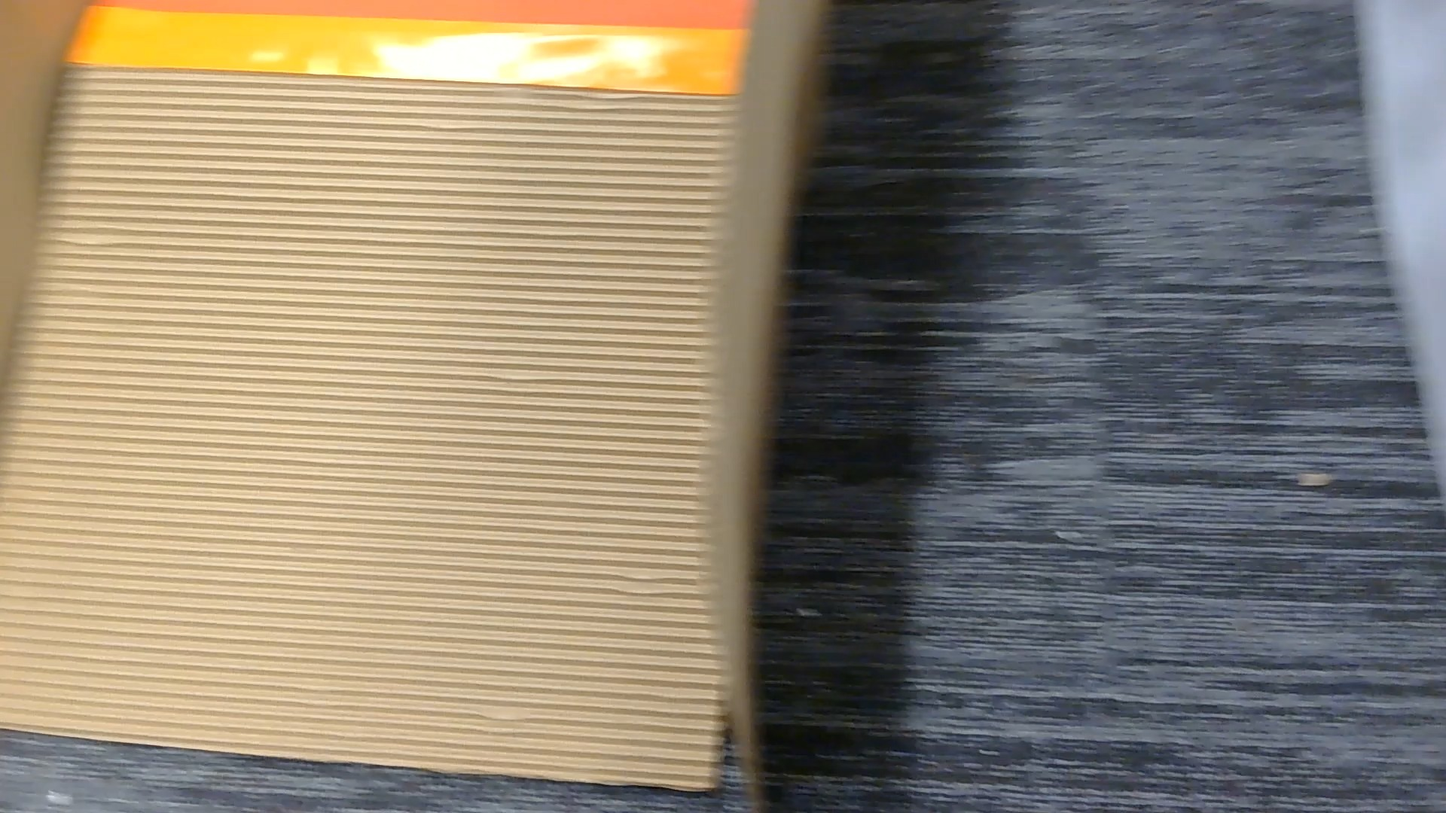Ramp: (0, 0, 828, 808)
